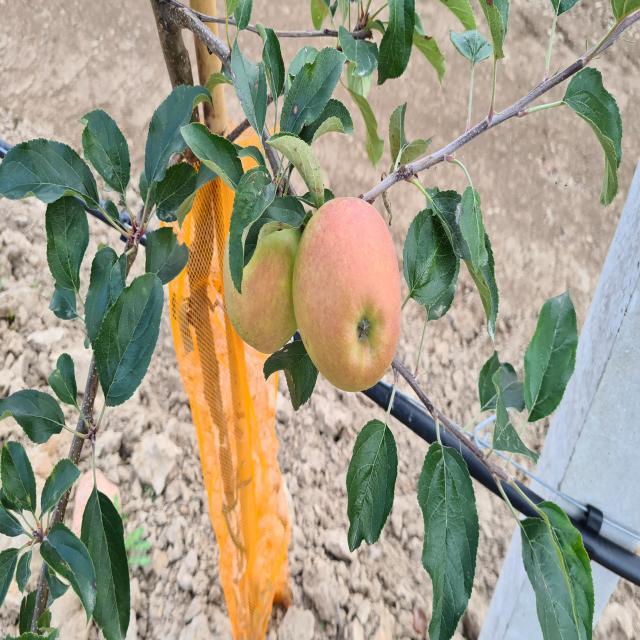Apple: (292, 198, 401, 391), (224, 222, 301, 353)
